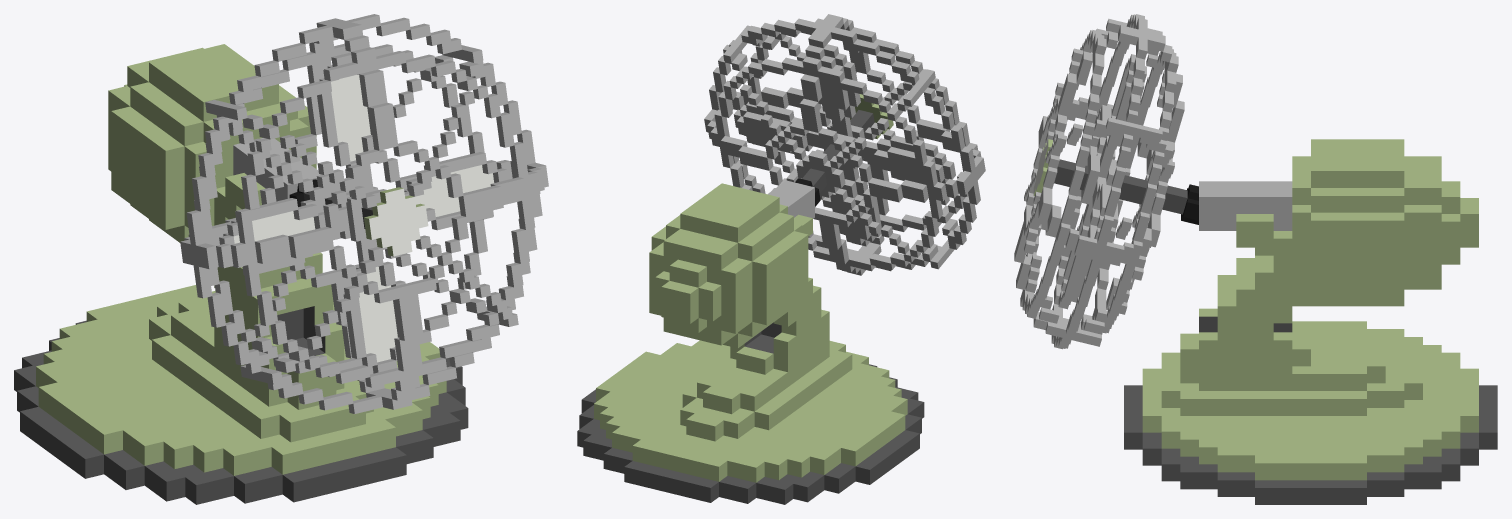
Rendered from ElectricFan.fbx.
3 views of the same model, side by side, from view 1: azimuth 30°, elevation 25°; view 2: azimuth 150°, elevation 25°; view 3: azimuth 270°, elevation 25° (orthographic). The views are drawn at different scales.
Parts seen in each view (by area): view 1: ElectricFan, Cage, Fan; view 2: ElectricFan, Cage, Fan; view 3: ElectricFan, Cage, Fan.
Boxes of the visible parts, x1,y1,x2,y2 form: ElectricFan: (14,44,468,504); Cage: (180,14,548,413); Fan: (219,52,508,373); ElectricFan: (577,180,924,504); Cage: (704,14,985,275); Fan: (733,44,955,246); ElectricFan: (1124,139,1497,504); Cage: (1014,14,1198,349); Fan: (1058,54,1146,309).
Bounding box in the file's own units: 200 × 235 × 259.
1 material, 1 textured.
